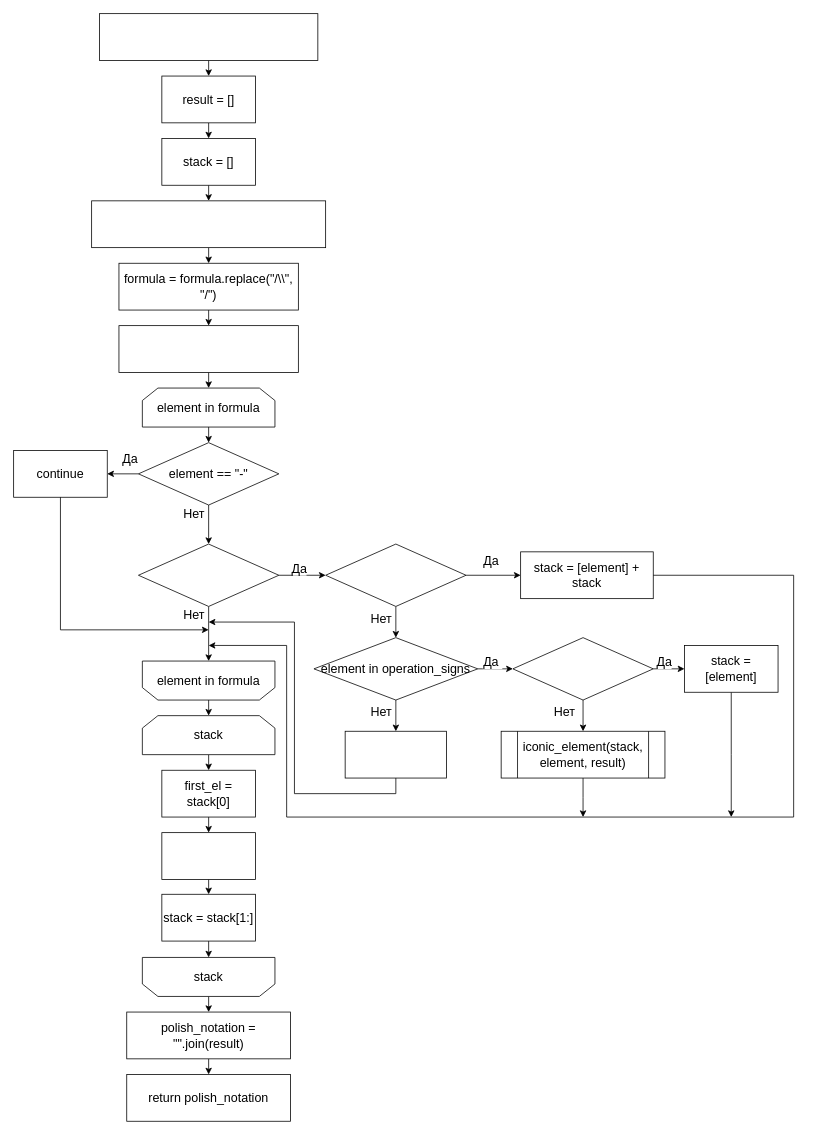
The diagram is 814 pixels wide and 1135 high, and some of its shapes have lost their labels. Here are the shapes that lost their labels. From the top down, the centre of each, then its label:
point (208, 36): reversed_polish_notation(formula)
point (208, 224): operation_signs = ["\\", "!", "/", "~", ">", "(", ")"]
point (208, 348): formula = formula.replace("\\/", "\\")
point (208, 574): element != " "
point (395, 574): element == "("
point (582, 668): not stack
point (395, 754): result += [element]
point (208, 855): result += [first_el]
